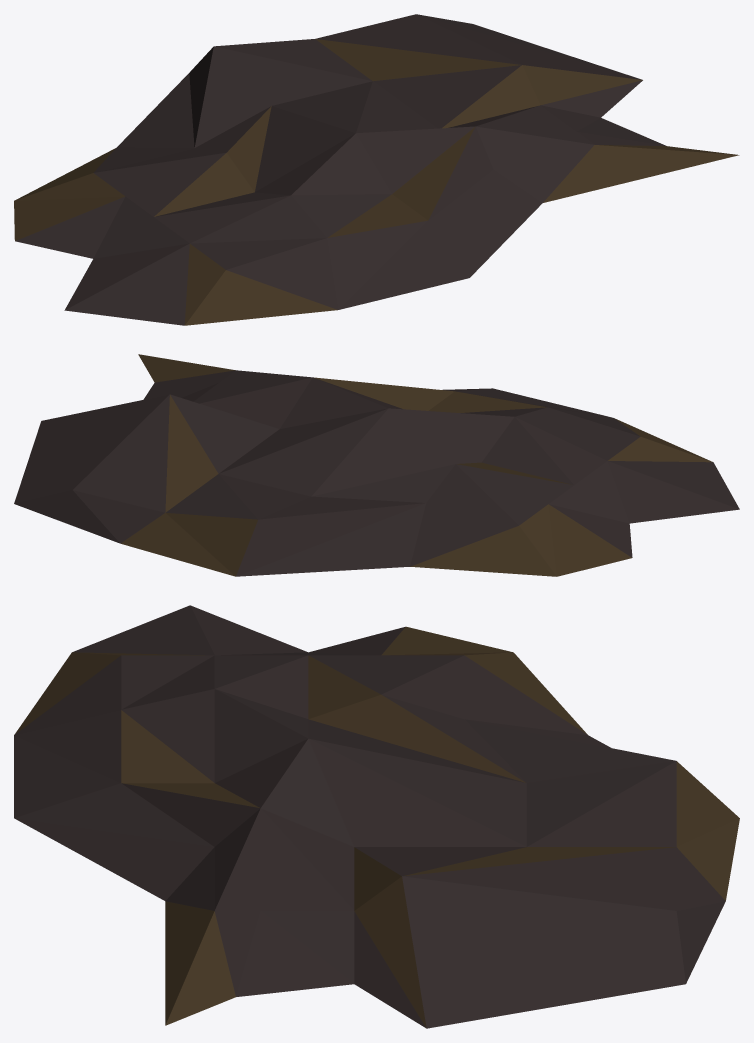
The model's file is dirt.fbx.
The picture shows the model from 3 angles, top to bottom: view 1: azimuth 30°, elevation 25°; view 2: azimuth 150°, elevation 25°; view 3: azimuth 270°, elevation 25°; orthographic projection. The views are drawn at different scales.
Parts seen in each view (by area): view 1: lowPolyIceAssets:pCube11; view 2: lowPolyIceAssets:pCube11; view 3: lowPolyIceAssets:pCube11.
Boxes of the visible parts, box(x1,y1,x2,y2) form: lowPolyIceAssets:pCube11: box(14, 14, 739, 325); lowPolyIceAssets:pCube11: box(14, 354, 739, 576); lowPolyIceAssets:pCube11: box(14, 605, 739, 1028).
Size of the model in its own units: 0.0688 by 0.00604 by 0.0499.
